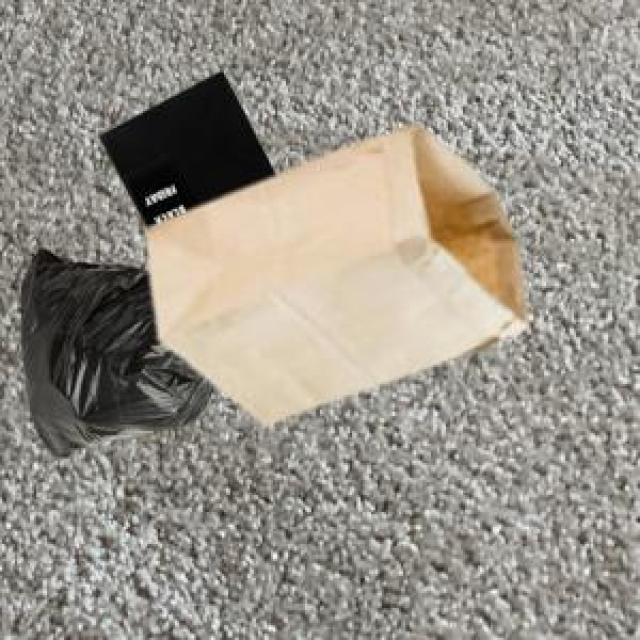miscellaneous trash: (17, 245, 211, 454)
paper: (143, 124, 523, 420), (96, 68, 271, 224)
